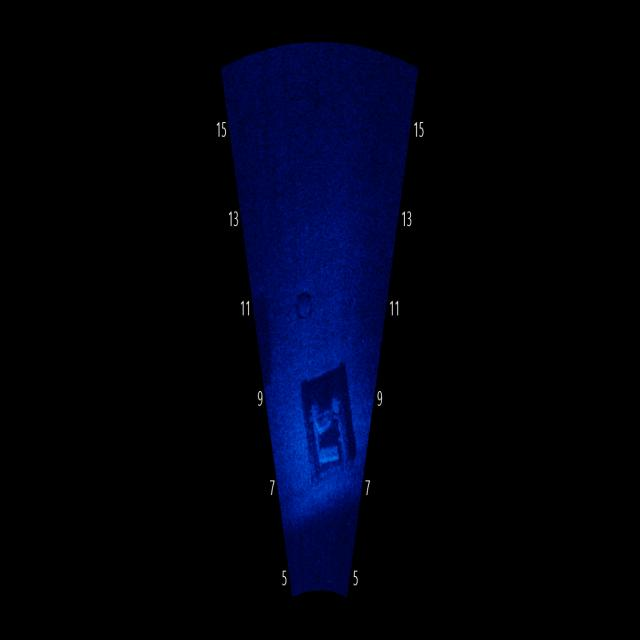square: (298, 373, 360, 494), (257, 284, 277, 397)
